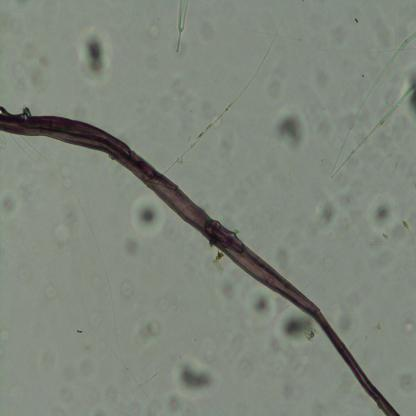Background material: (161, 355, 222, 415), (7, 20, 52, 99), (212, 310, 258, 383), (74, 25, 116, 90), (265, 343, 313, 399), (31, 336, 90, 378), (125, 196, 166, 256), (259, 223, 300, 280), (275, 305, 317, 349), (370, 193, 402, 244), (272, 108, 307, 154), (56, 200, 84, 247), (247, 288, 277, 328), (337, 288, 360, 334), (303, 52, 331, 88), (214, 270, 245, 300), (312, 195, 338, 230), (136, 318, 163, 348), (0, 187, 23, 219), (405, 63, 416, 117), (124, 273, 142, 306), (399, 373, 416, 394), (400, 316, 416, 336)
Cotton: (0, 110, 400, 416)
Glass filter fibre: (164, 32, 284, 174), (332, 83, 415, 181), (349, 32, 416, 134), (176, 0, 188, 54)
